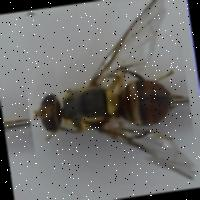Oriental-fruit-fly: (14, 0, 199, 200)
